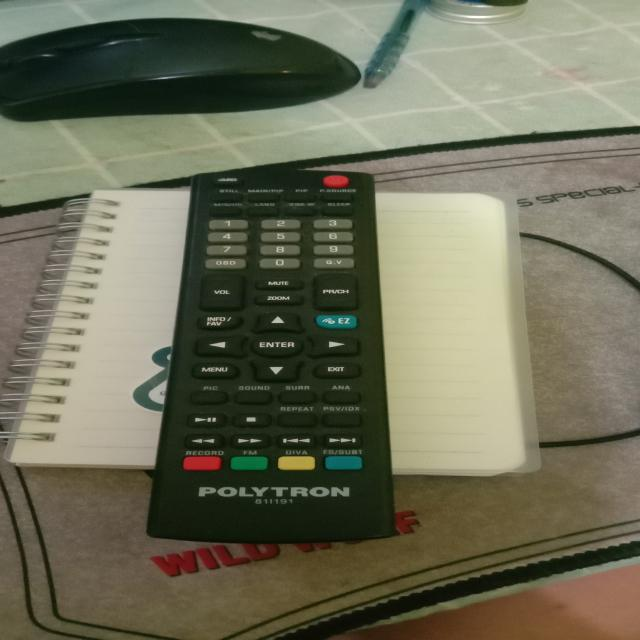remote: (115, 168, 400, 565)
